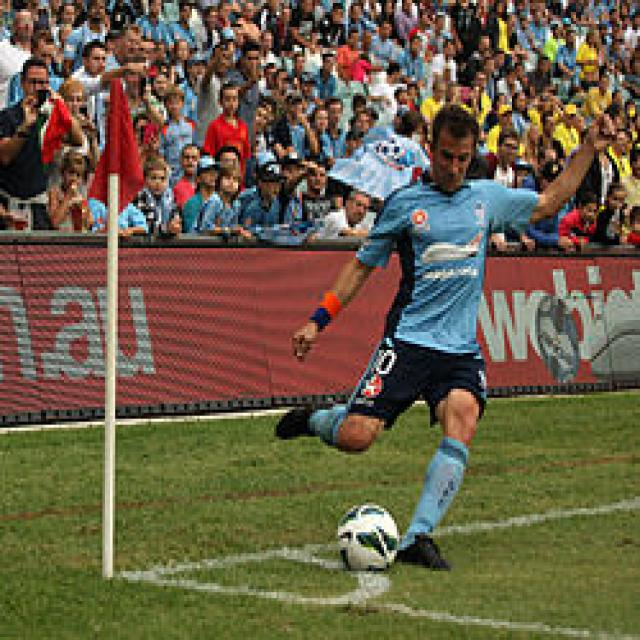corner-kick: (84, 72, 401, 612)
